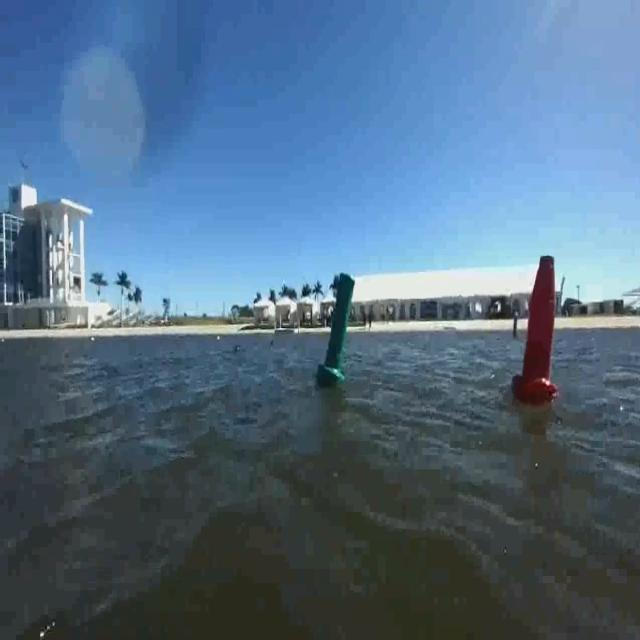green-column-buoy: (317, 271, 356, 382)
red-column-buoy: (515, 254, 560, 405)
